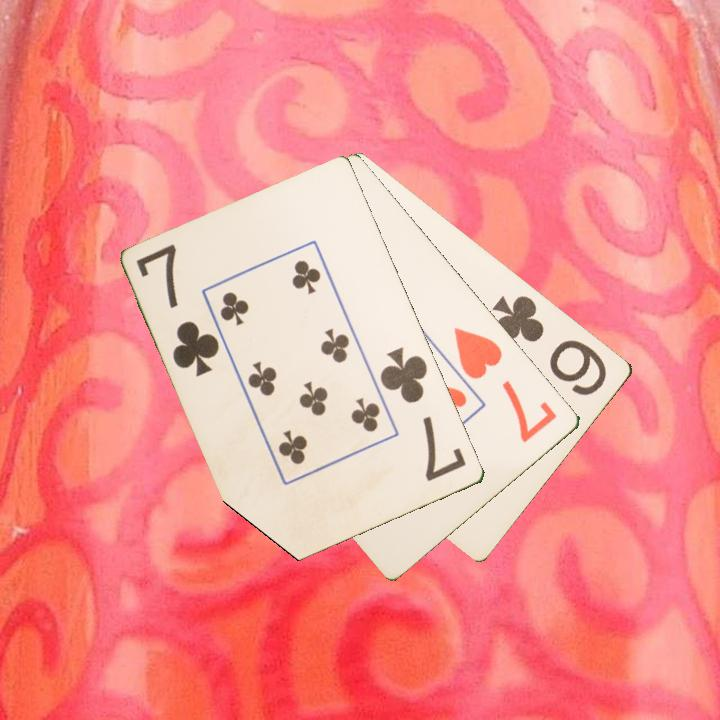6c: (489, 291, 611, 399)
7c: (376, 343, 470, 485), (132, 240, 223, 380)
7h: (450, 323, 561, 446)
